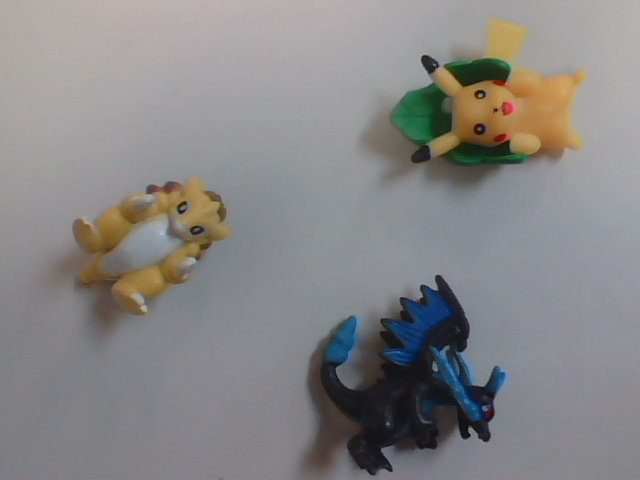charizard: (297, 284, 523, 478)
pikachu: (390, 10, 594, 217)
sandslash: (68, 155, 250, 350)
